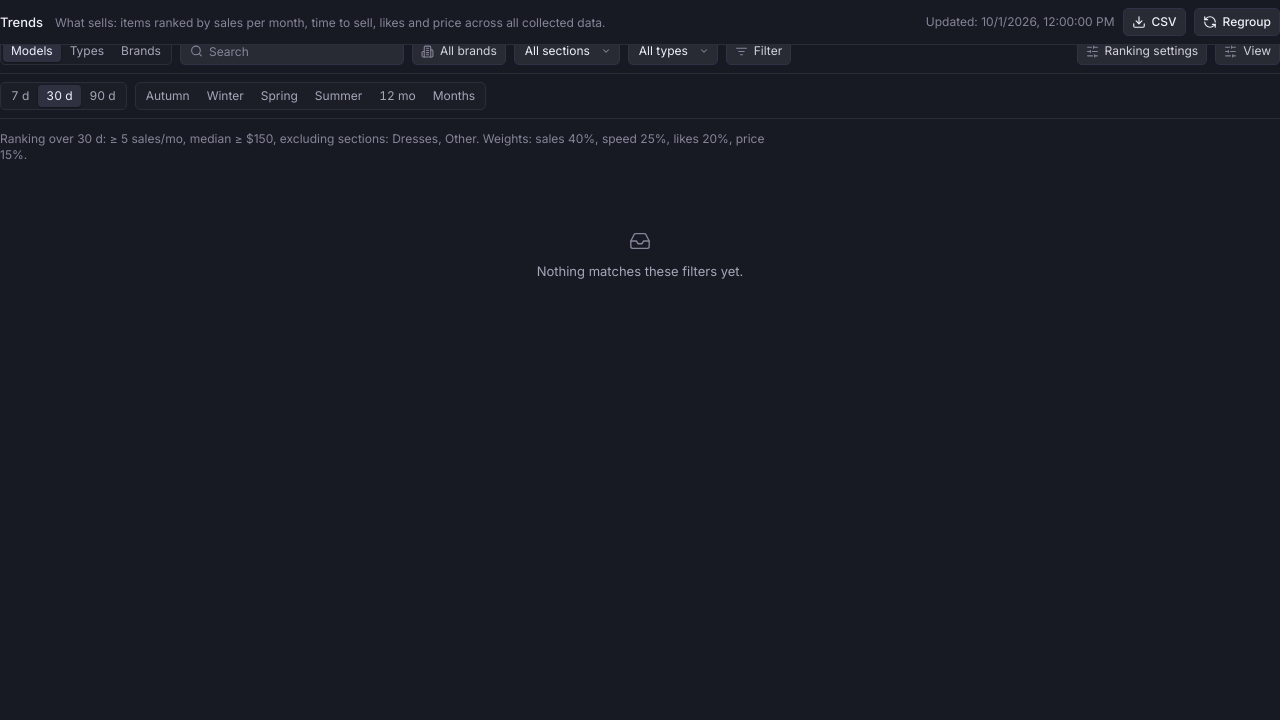
Test: stage 10 screens › blocks saving invalid weights and resets a saved policy
Click the button "Ranking settings".
click(1142, 51)  # box 1076,37 -> 1207,65
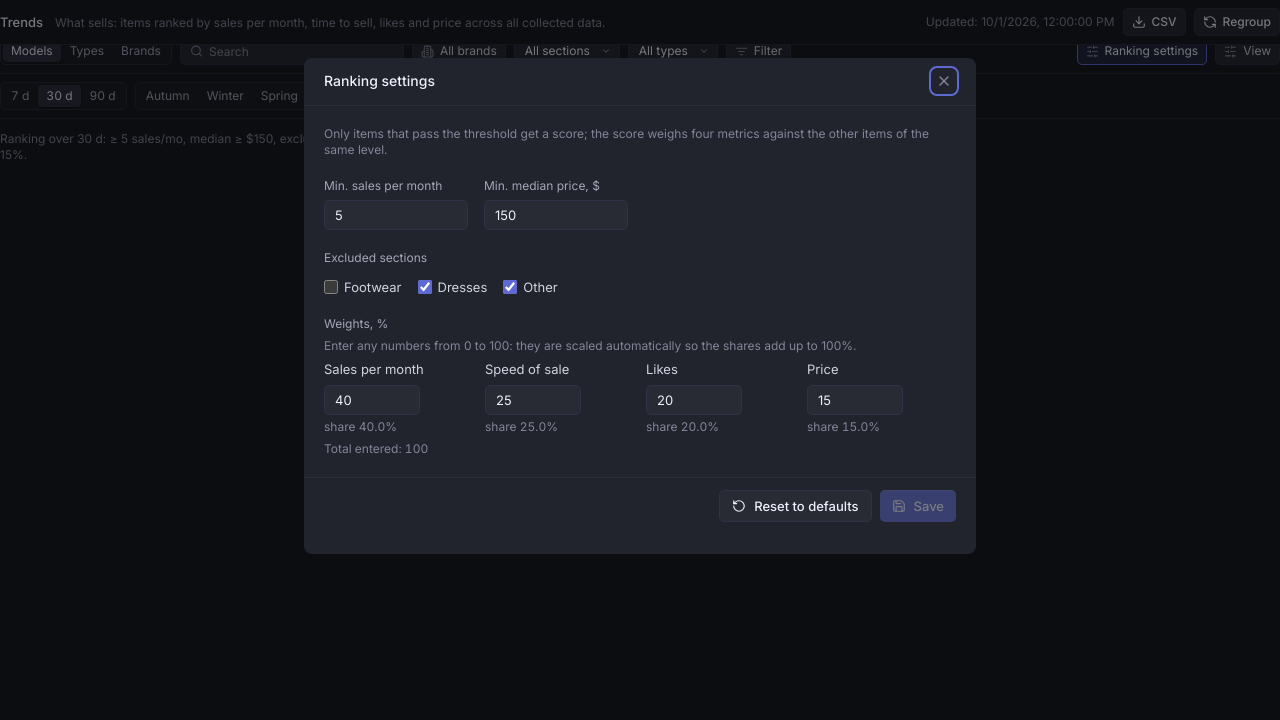
Replace the text in the number field labelled "Sales per month" with "0" at (372, 400), box 324,385 -> 420,415
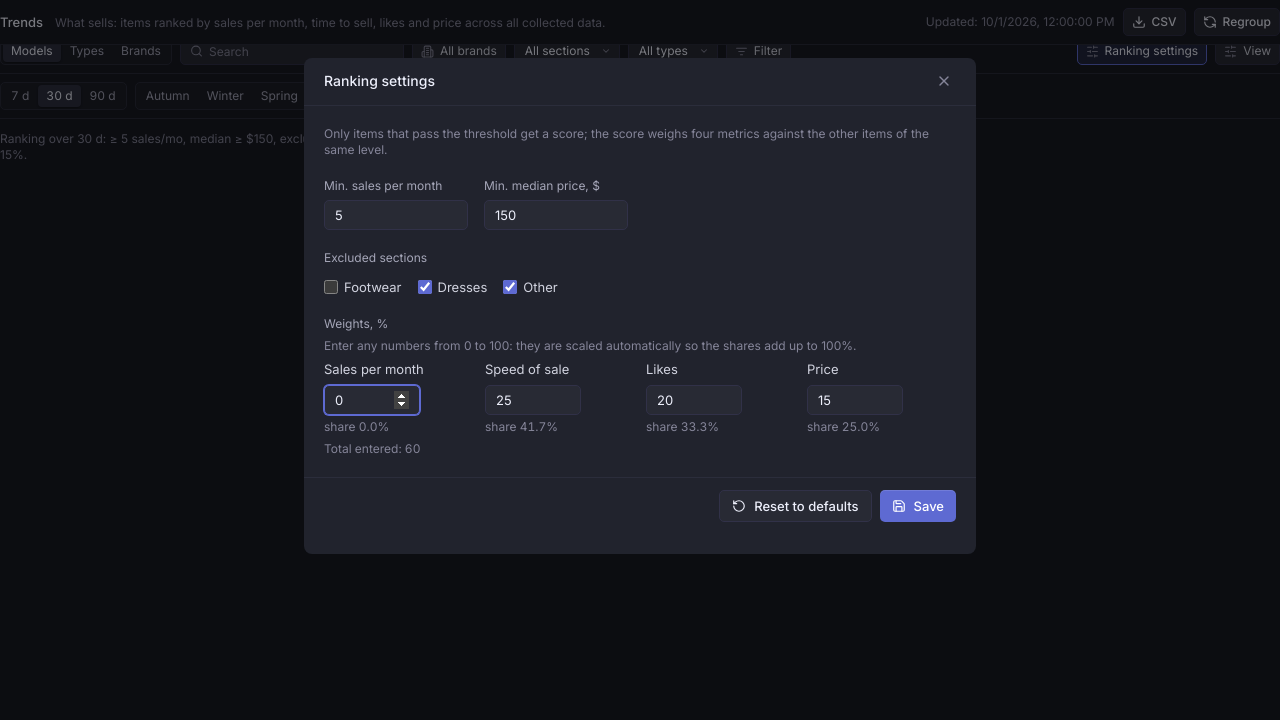
Replace the text in the number field labelled "Speed of sale" with "0" at (533, 400), box 485,385 -> 581,415
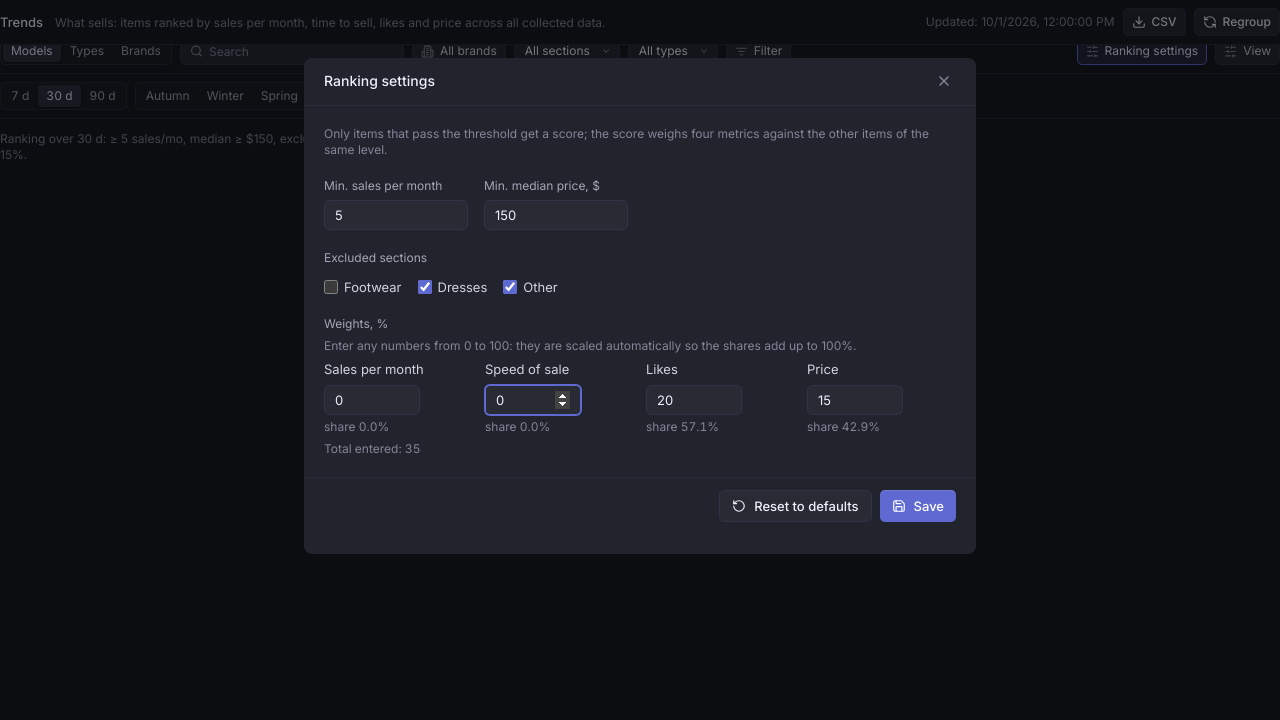
Replace the text in the number field labelled "Likes" with "0" at (694, 400), box 646,385 -> 742,415
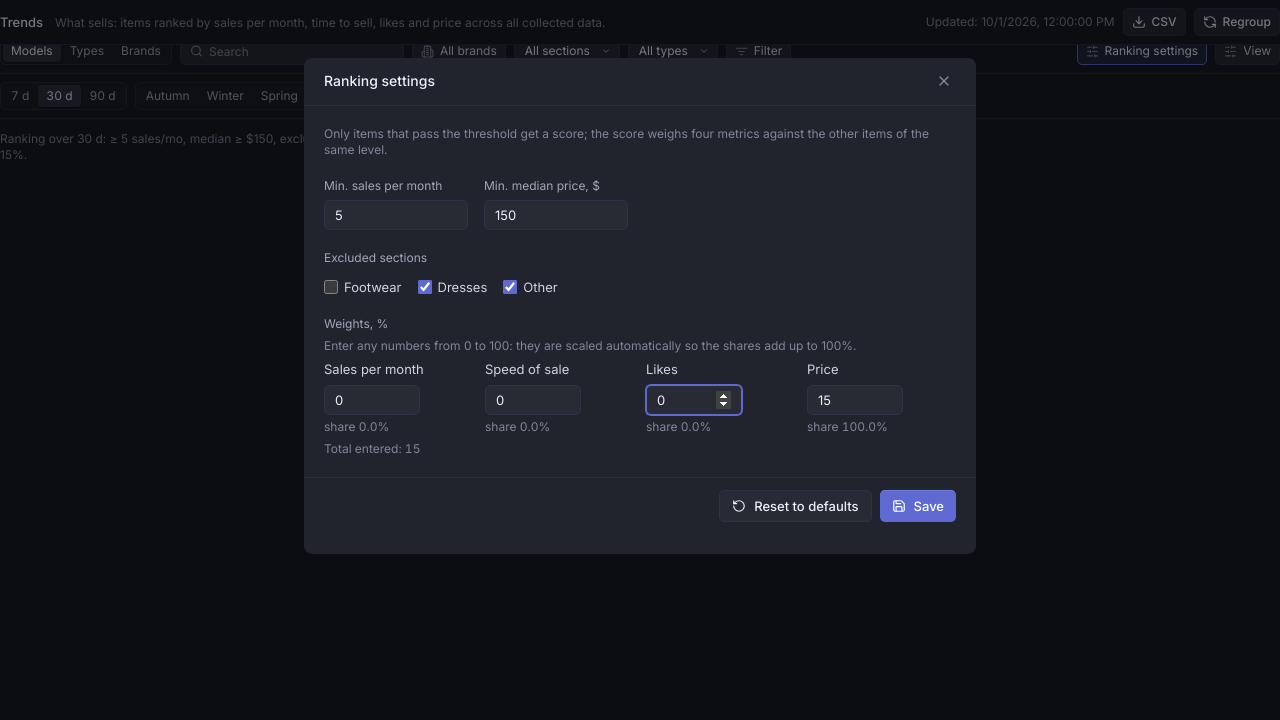
Replace the text in the number field labelled "Price" with "0" at (855, 400), box 807,385 -> 903,415
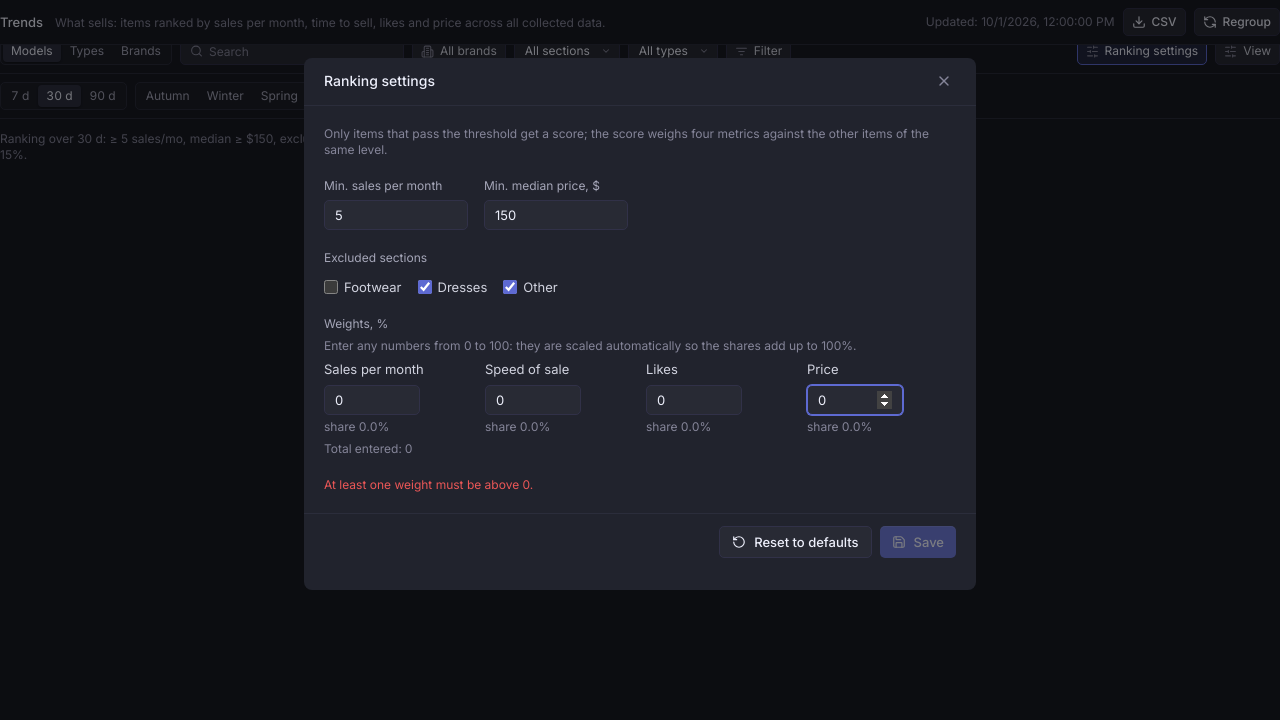
Now the button "Save" is disabled, box 880,526 -> 956,558
Now the button "Reset to defaults" is enabled
Now the message reads "At least one weight must be above 0.", box 324,477 -> 533,492
Click the button "Reset to defaults".
click(795, 542)  # box 719,526 -> 872,558
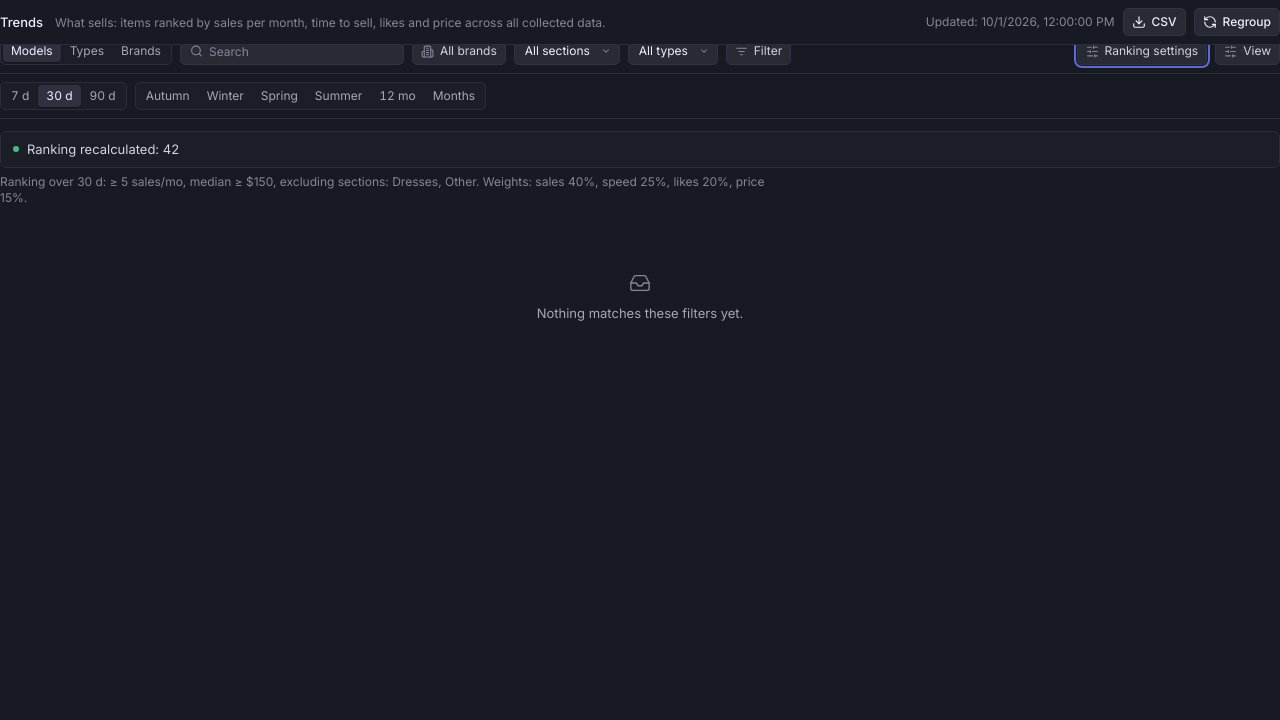
Now the text "Ranking recalculated: 42" is shown, box 0,131 -> 1279,168
